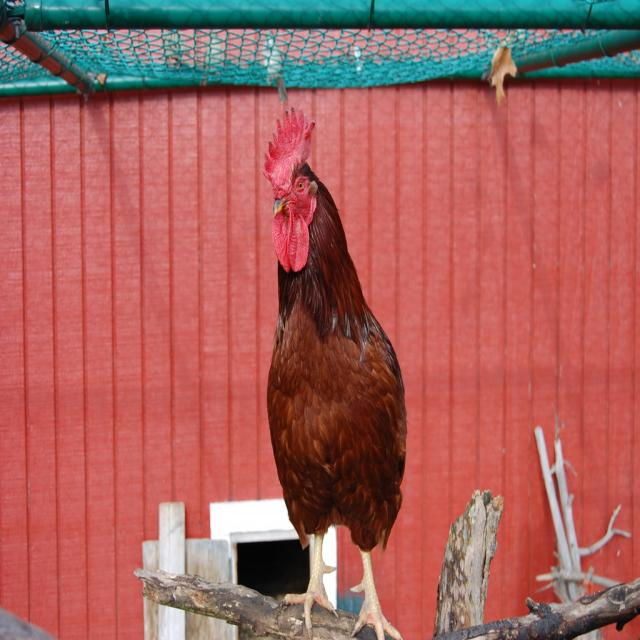Chicken: (261, 111, 408, 639)
